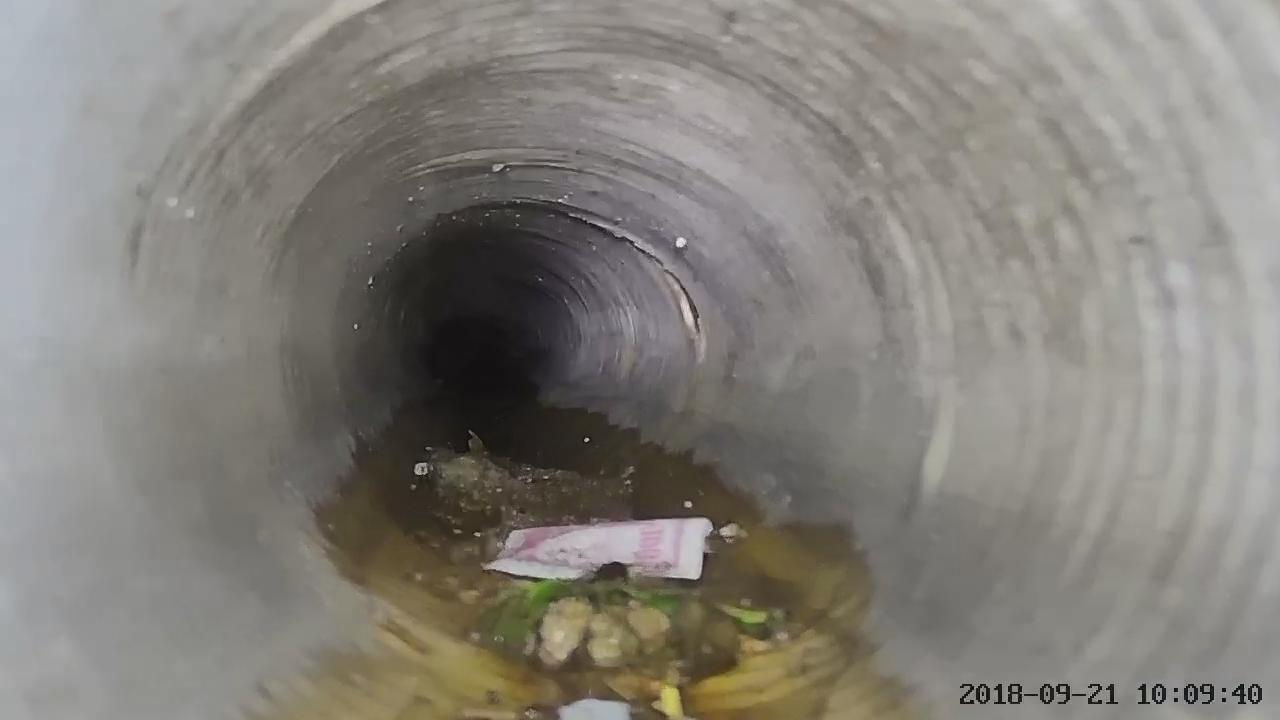PL: (480, 200, 706, 358)
